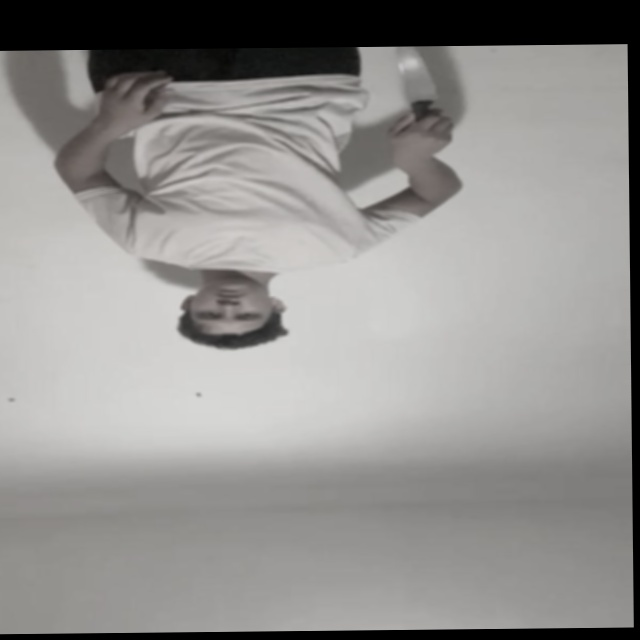Sharp-Object: (396, 46, 437, 102)
